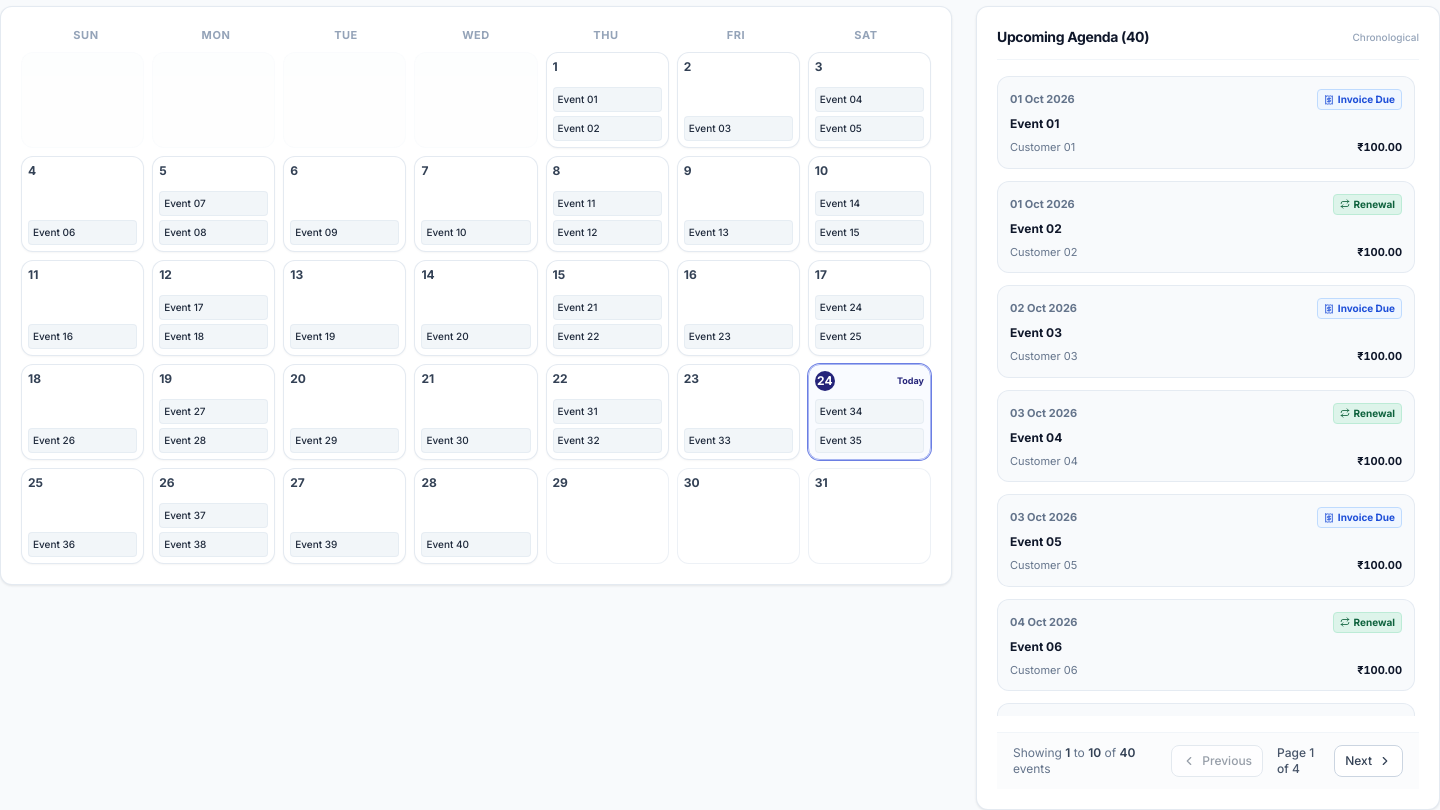
BillingCalendarPage agenda pagination › resets to page 1 and filters when the type filter changes
(page scrolled)
What coordinates should you click on to do the following:
click the button "Next"
I would click on:
 (1369, 761)
Its box is [1334,745,1403,777].
(page scrolled)
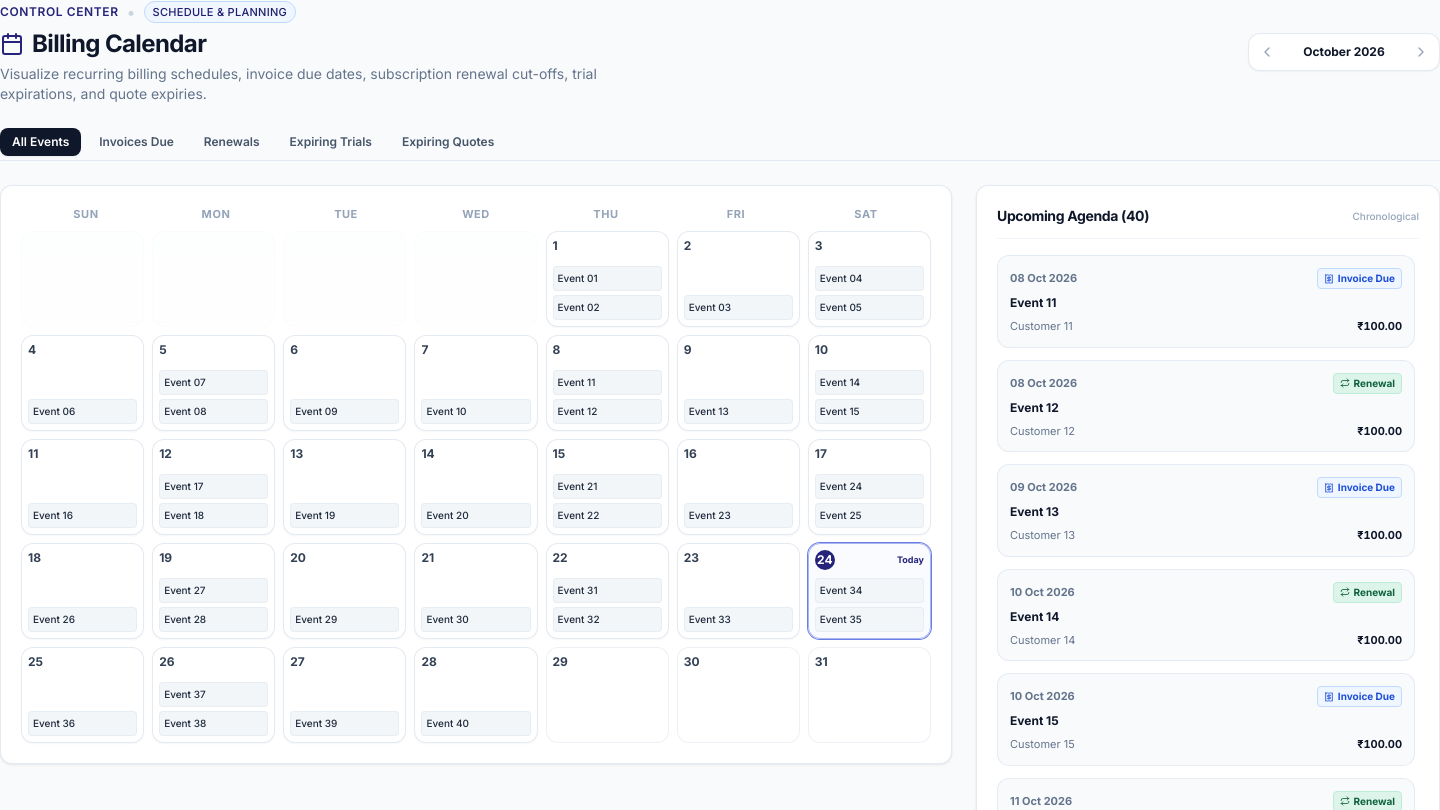
What coordinates should you click on to do the following:
click the button "Renewals"
I would click on:
 (232, 142)
Its box is [192,128,272,156].
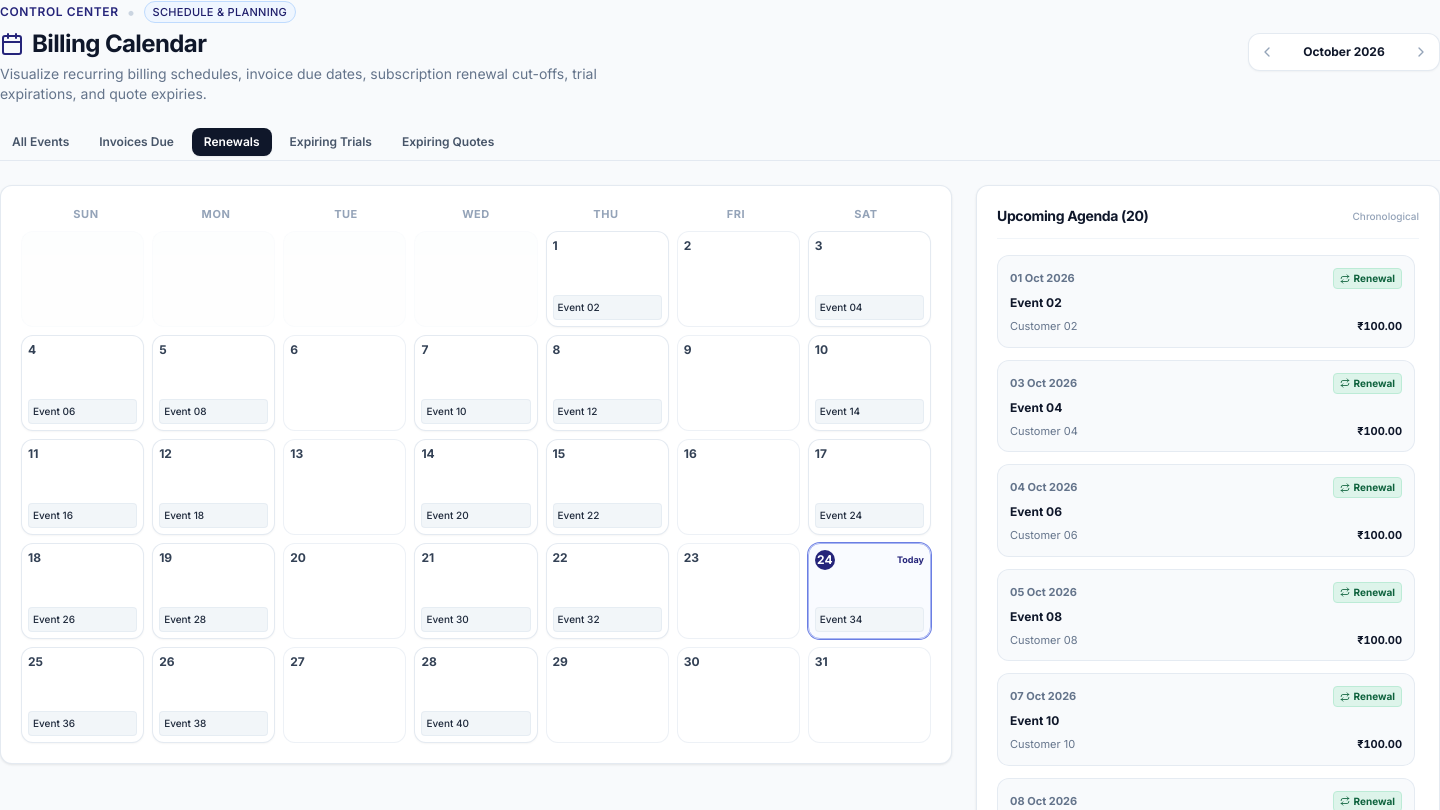
Expected: the heading "Upcoming Agenda (20)" is shown, [997,206,1148,226]
Expected: the heading "Event 02" is shown, [1010,295,1062,310]
Expected: the text "Event 01" is gone
